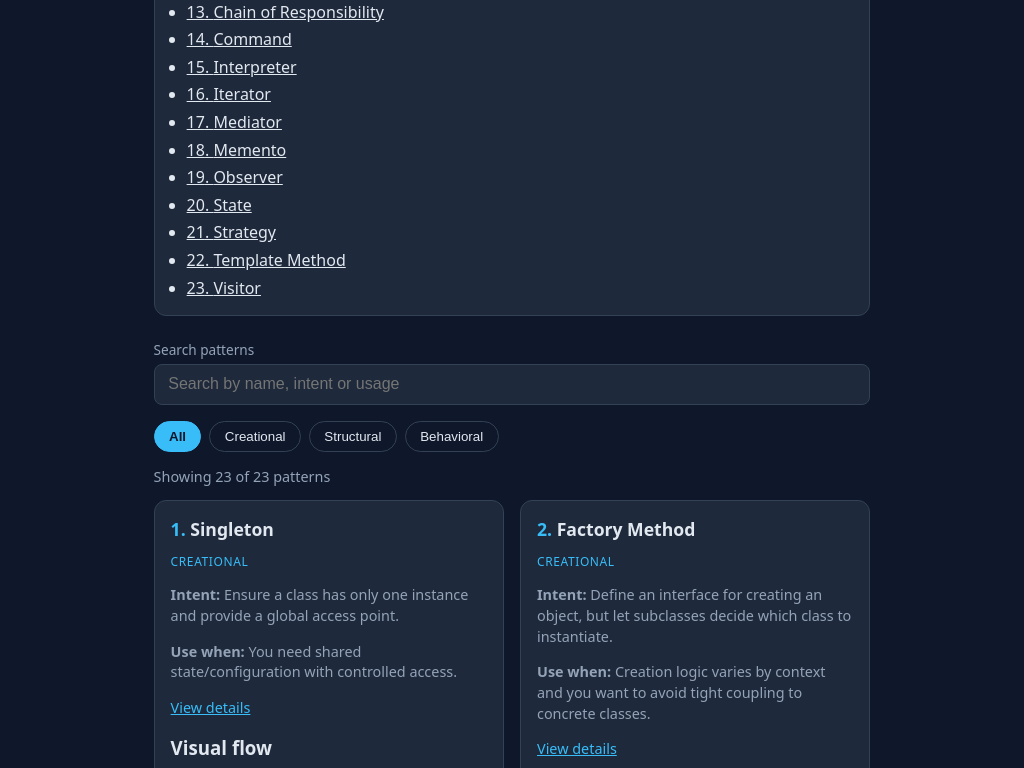
IndexPage › scenario: an engineer looks for a pattern › filters the catalog while typing and shows a single match
(page scrolled)
Step 1. Type "visitor" into the search field labelled "Search patterns" → (512, 384), box [154,364,870,405]
(page scrolled)
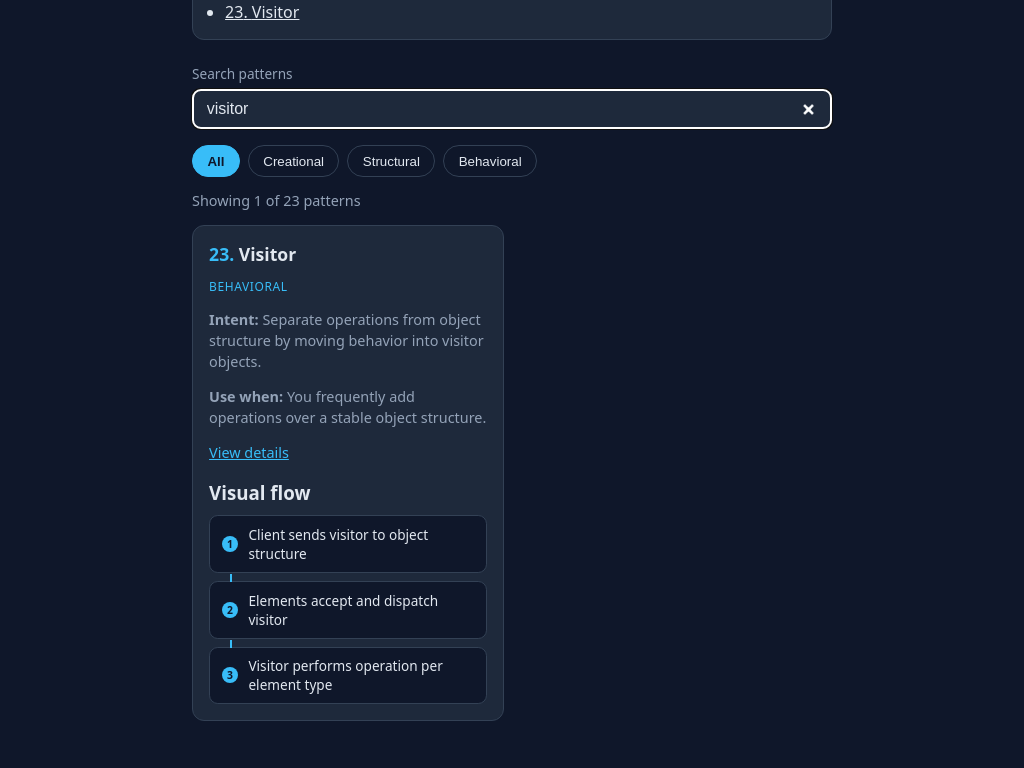
Check: the element with test id "pattern-visitor" is shown, box [192,224,504,721]
Check: the message reads "Showing 1 of 23 patterns", box [192,191,361,210]
